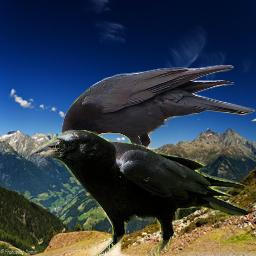Crow: (30, 130, 247, 256), (61, 65, 256, 179)
